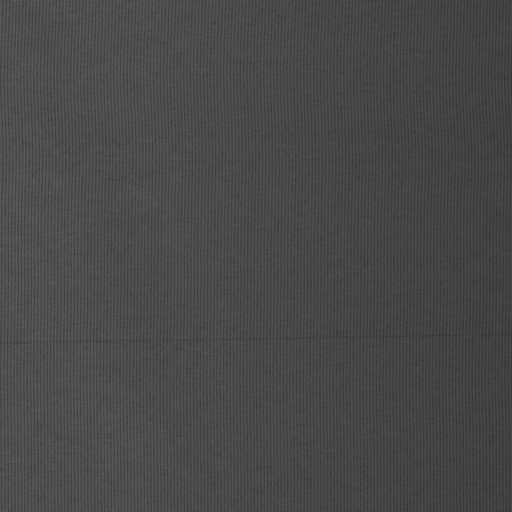defect: (3, 327, 512, 357)
